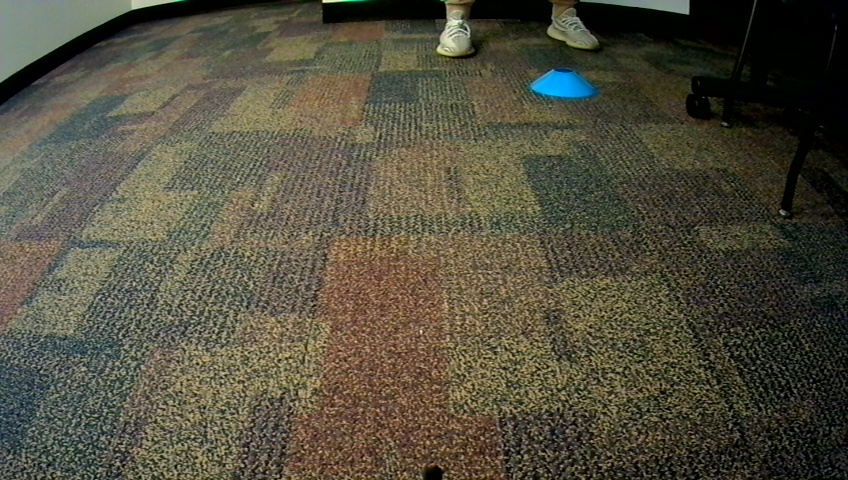cone: (531, 65, 599, 101)
